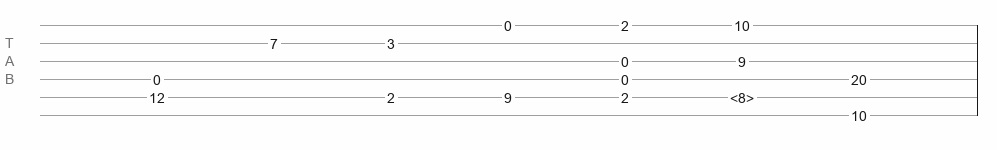0: (153, 72, 161, 82), (504, 18, 512, 28), (621, 54, 629, 64), (621, 72, 629, 82)
10: (734, 18, 750, 28), (851, 108, 867, 118)
12: (149, 90, 165, 100)
2: (387, 90, 395, 100), (621, 90, 629, 100), (621, 18, 629, 28)
20: (851, 72, 867, 82)
3: (387, 36, 395, 46)
7: (270, 36, 278, 46)
9: (504, 90, 512, 100), (738, 54, 746, 64)
harmonic: (730, 90, 754, 100)
